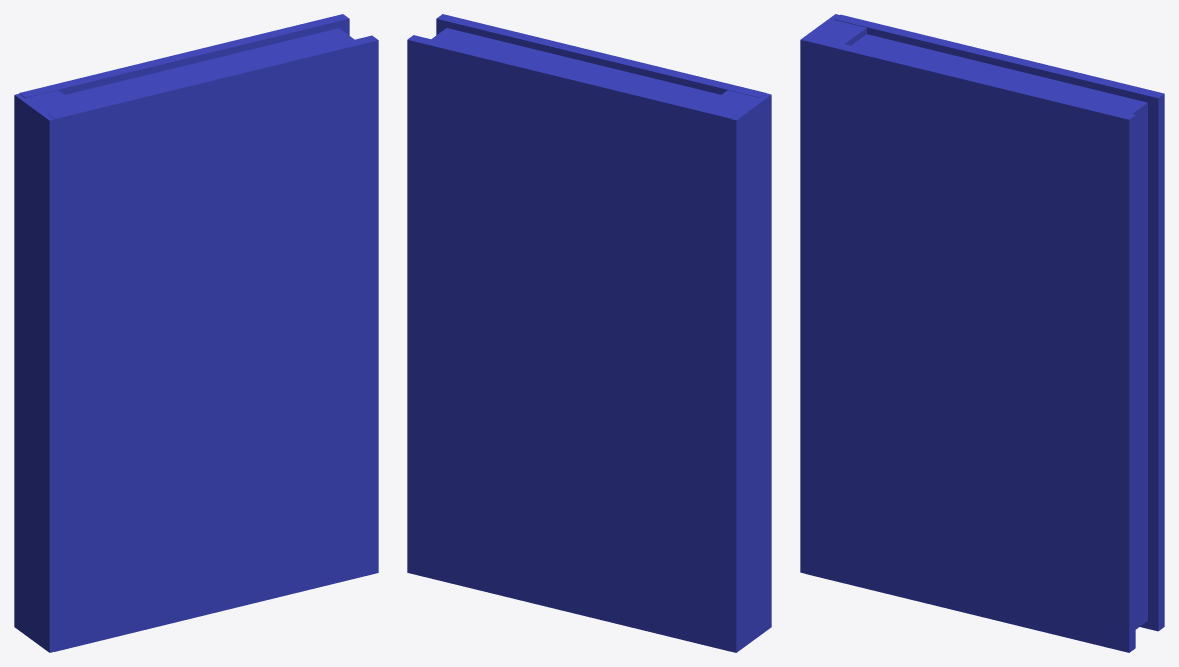
File: ksiazka.fbx
3 views of the same model, side by side, from view 1: azimuth 30°, elevation 25°; view 2: azimuth 150°, elevation 25°; view 3: azimuth 330°, elevation 25° (orthographic).
Visible parts, largest first — view 1: root (×4); view 2: root (×4); view 3: root (×4).
Part boxes in pixels (bbox=[...]): root (×4): bbox=[14, 14, 378, 652]; root (×4): bbox=[407, 14, 771, 652]; root (×4): bbox=[800, 14, 1164, 652].
Size of the model in its own units: 0.3449 by 0.5342 by 0.0644.
